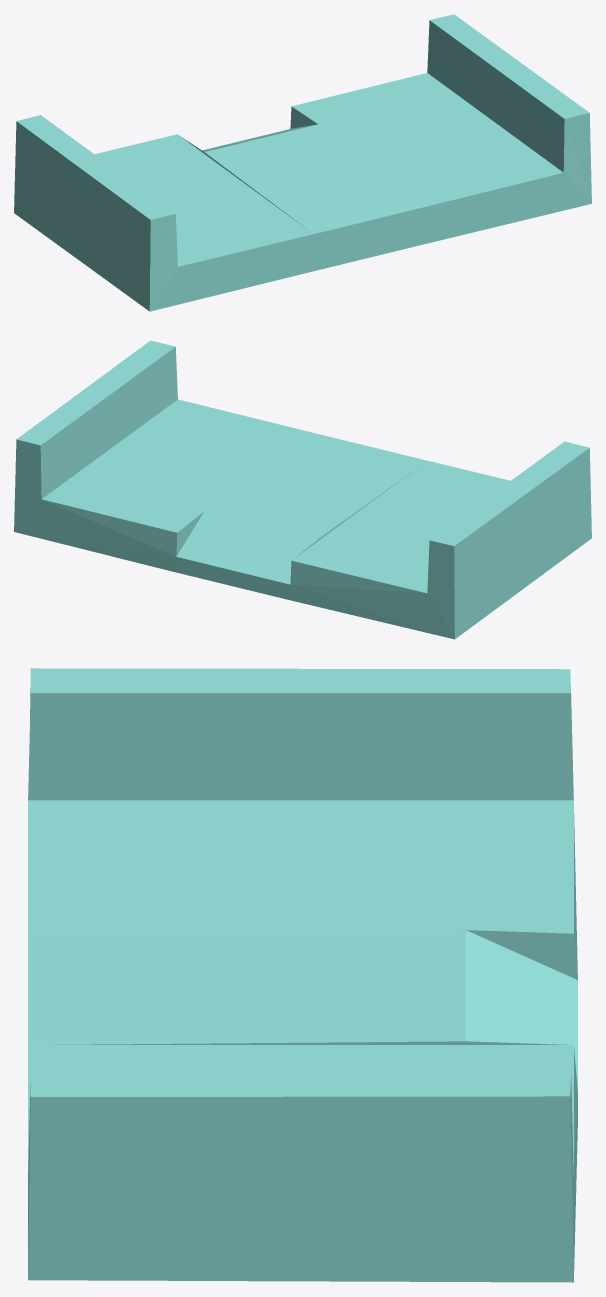
The model's file is HodDogMachine_Collision.fbx.
3 views of the same model, one above another, from view 1: azimuth 30°, elevation 25°; view 2: azimuth 150°, elevation 25°; view 3: azimuth 270°, elevation 25° (orthographic). The views are drawn at different scales.
Parts seen in each view (by area): view 1: HodDogMachine_Collision; view 2: HodDogMachine_Collision; view 3: HodDogMachine_Collision.
Part boxes in pixels (x1,y1,x2,y2): HodDogMachine_Collision: (14, 14, 591, 311); HodDogMachine_Collision: (14, 340, 591, 639); HodDogMachine_Collision: (28, 668, 577, 1282).
Size of the model in its own units: 0.6029 by 0.1202 by 0.3247.
